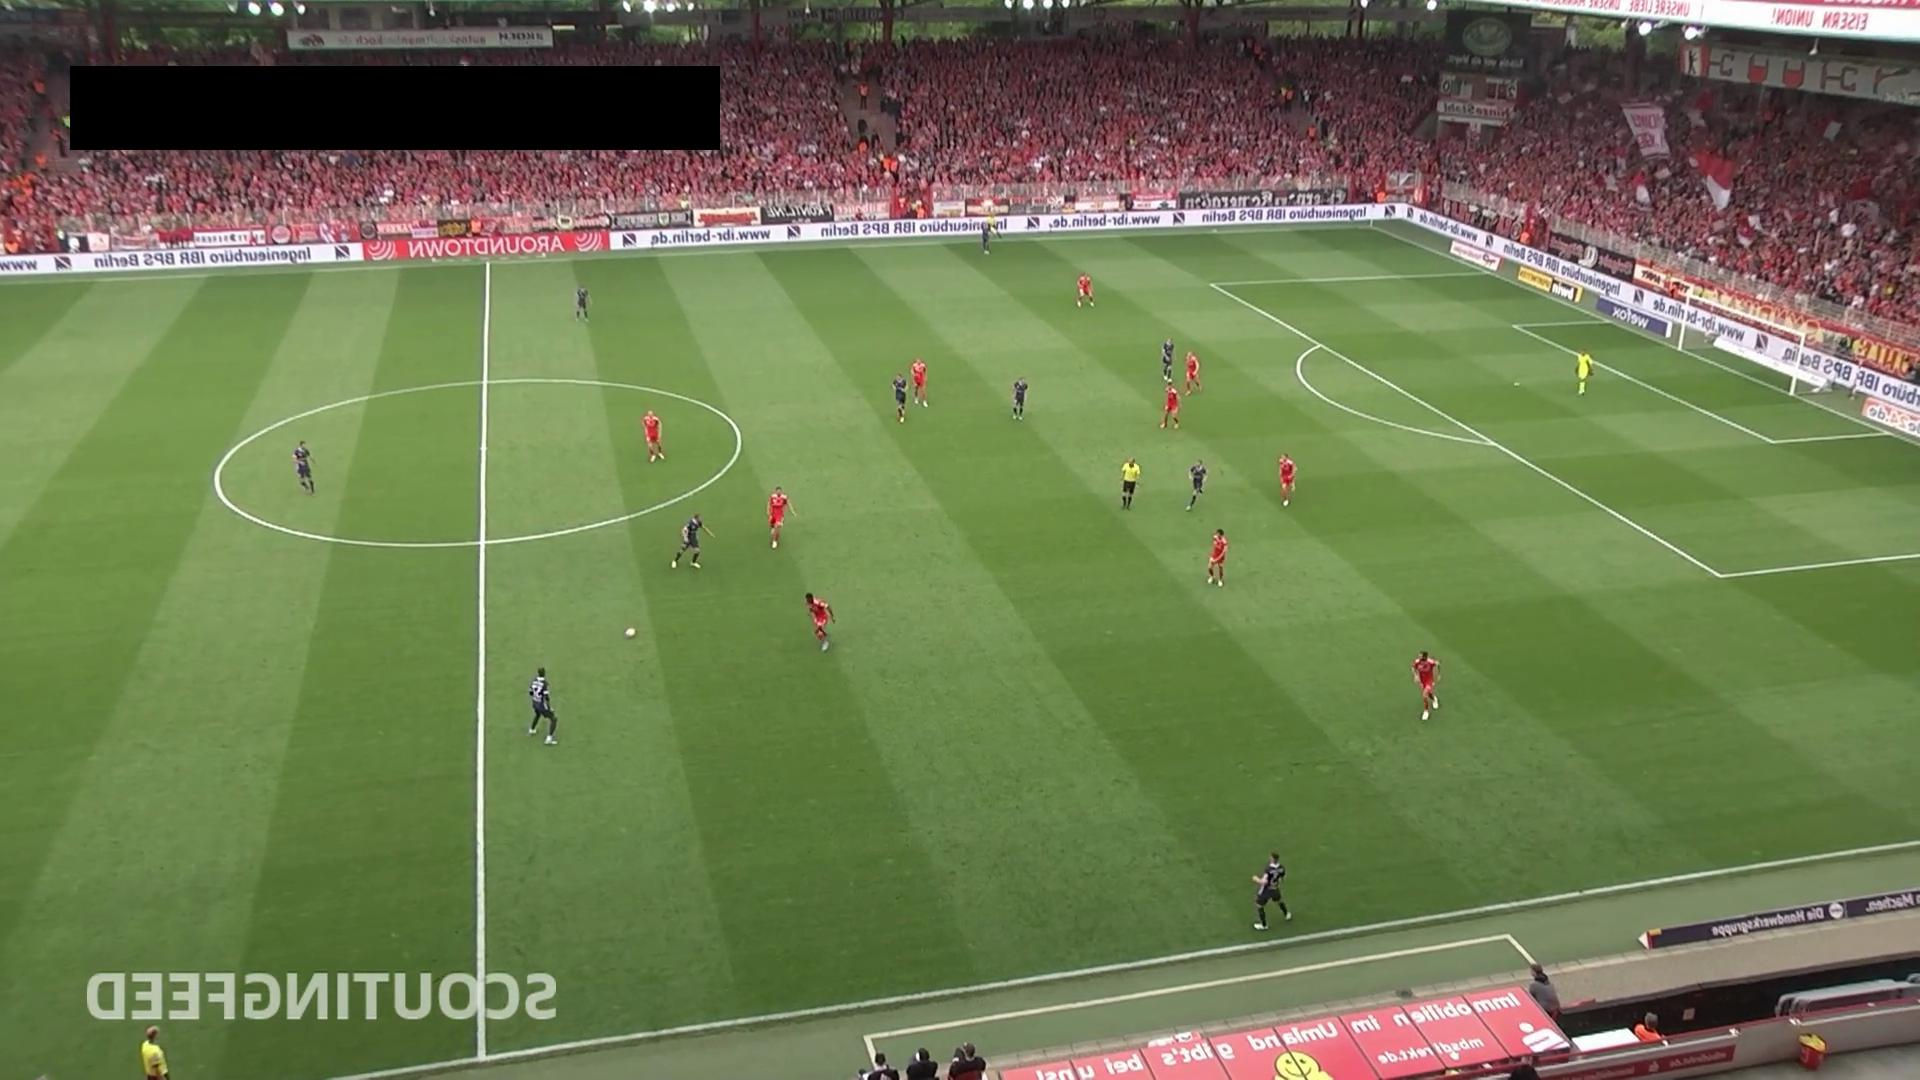ball: (624, 626, 638, 638)
goalkeeper: (1575, 347, 1594, 396)
player: (1251, 850, 1293, 930), (671, 513, 717, 570), (527, 667, 559, 744), (1411, 649, 1441, 721), (804, 592, 836, 652), (767, 485, 797, 548), (642, 409, 666, 463), (293, 439, 316, 495), (1185, 458, 1209, 511), (1207, 528, 1228, 587), (1159, 381, 1182, 430), (1278, 453, 1297, 508), (911, 356, 929, 408), (1185, 350, 1202, 395), (892, 373, 907, 424), (1012, 377, 1028, 420), (1076, 272, 1095, 308), (574, 285, 591, 322), (1162, 337, 1174, 379), (980, 220, 993, 255)
referee: (140, 1026, 171, 1079), (1120, 456, 1141, 510)
